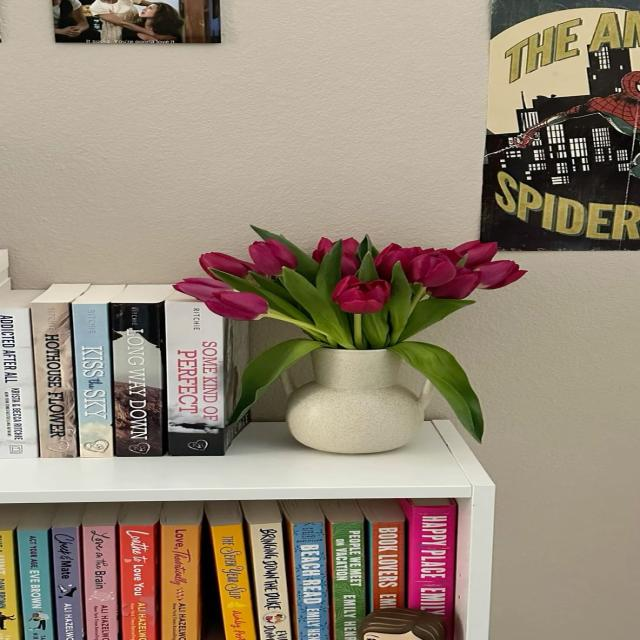book: (109, 301, 167, 457), (166, 301, 224, 455), (31, 297, 77, 457), (72, 303, 113, 457), (0, 307, 38, 458), (407, 507, 458, 617), (214, 525, 256, 640), (250, 523, 291, 640), (293, 523, 330, 640), (331, 522, 367, 640), (118, 525, 155, 639), (162, 525, 197, 640), (19, 530, 55, 640), (85, 527, 118, 640), (54, 529, 84, 640), (372, 522, 405, 611), (1, 530, 20, 640)
flowers: (173, 228, 524, 454)
